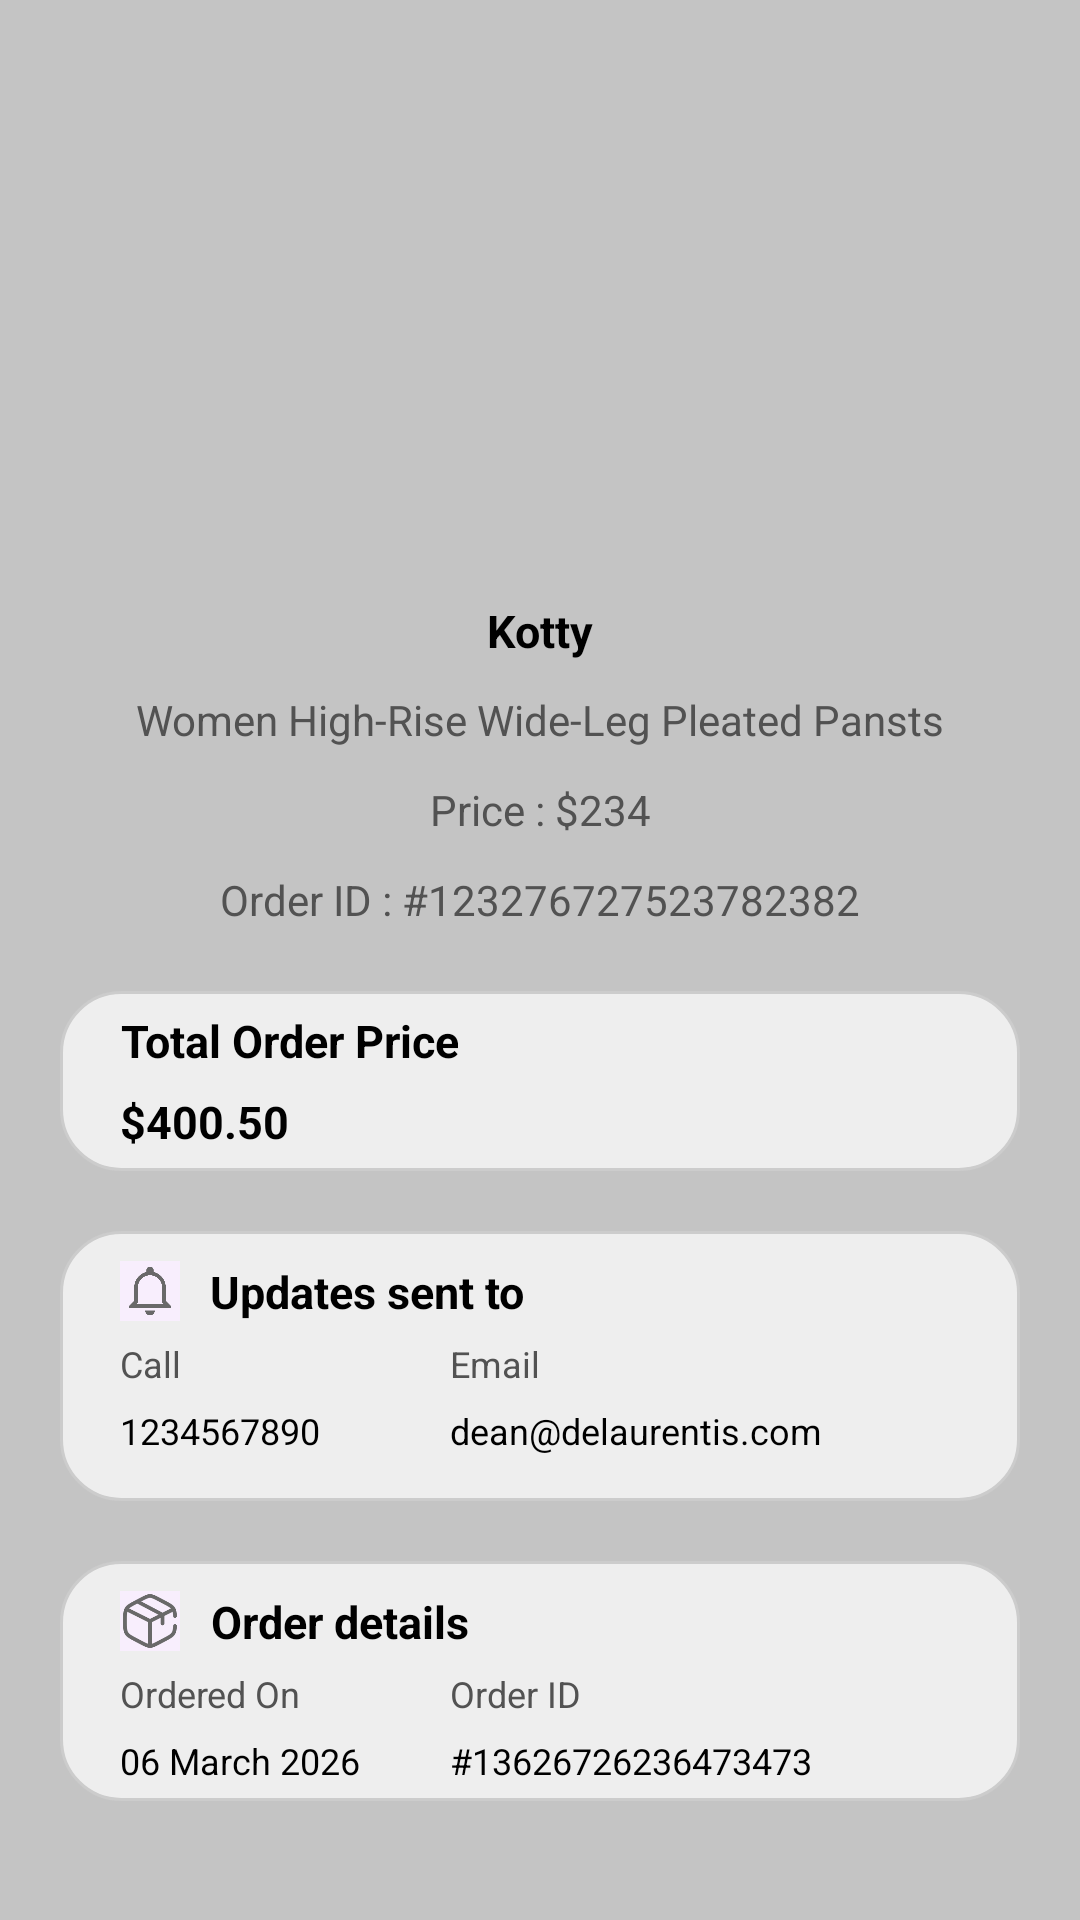

Named icons in this screenshot (1080×1920) and their centers, (x=x, y=y):
bell: (x=150, y=1291)
boxicon: (x=150, y=1621)
